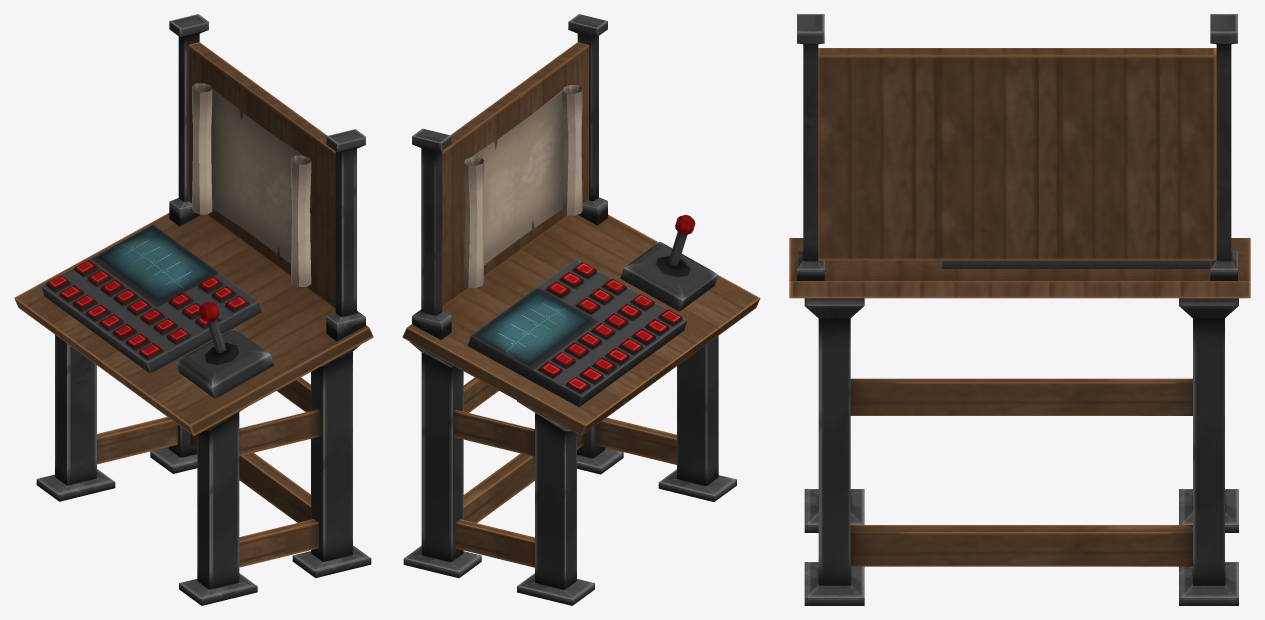
The model's file is SM_tableTrap.fbx.
3 renders of one model, left to right at view 1: azimuth 30°, elevation 25°; view 2: azimuth 150°, elevation 25°; view 3: azimuth 270°, elevation 25°, orthographic. The views are drawn at different scales.
Visible parts, largest first — view 1: SM_tableTrap; view 2: SM_tableTrap; view 3: SM_tableTrap.
Part boxes in pixels (box(x1,y1,x2,y2)): SM_tableTrap: box(14, 14, 373, 605); SM_tableTrap: box(402, 14, 760, 605); SM_tableTrap: box(789, 14, 1250, 605).
Size of the model in its own units: 1.57 by 3.45 by 2.54.
